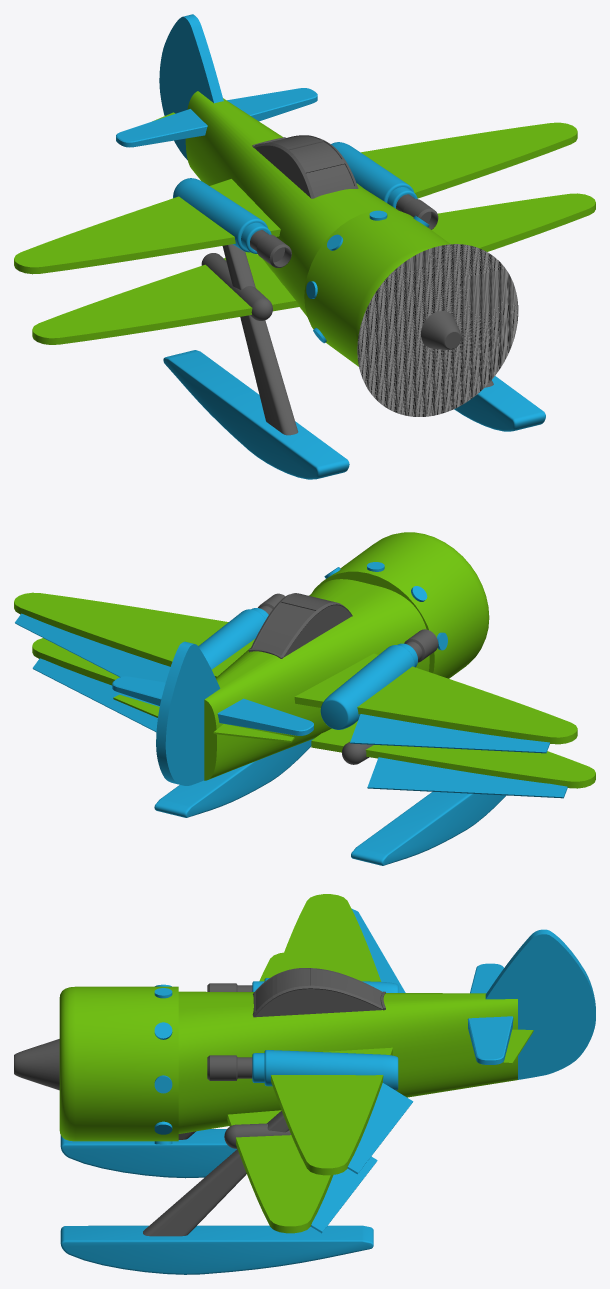
The picture shows the model from 3 angles, top to bottom: view 1: azimuth 30°, elevation 25°; view 2: azimuth 150°, elevation 25°; view 3: azimuth 270°, elevation 25°; orthographic projection.
Visible parts, largest first — view 1: Крылья, Пропеллер, Корпус, Поплавки, Нос007, Пулеметы, Хвост005, Ноги001, Кабина002, Хвостовые крылья002, Дуло, Колено001 (+2 smaller); view 2: Крылья, Корпус, Нос007, Поплавки, Хвост005, Пулеметы, Закрылки 4, Закрылки 3, Кабина002, Хвостовые крылья002, Закрылки 1, Закрылки 2 (+4 smaller); view 3: Корпус, Крылья, Нос007, Поплавки, Хвост005, Кабина002, Пулеметы, Ноги001, Хвостовые крылья002, Закрылки 1, Пимпа002, Закрылки 2 (+5 smaller).
Boxes of the visible parts, left/top/right/bottom form: Крылья: left=14, top=122, right=595, bottom=344; Пропеллер: left=357, top=244, right=518, bottom=416; Корпус: left=185, top=91, right=398, bottom=316; Поплавки: left=163, top=350, right=545, bottom=479; Нос007: left=304, top=209, right=450, bottom=366; Пулеметы: left=173, top=142, right=417, bottom=253; Хвост005: left=159, top=14, right=223, bottom=160; Ноги001: left=222, top=244, right=493, bottom=435; Кабина002: left=252, top=135, right=358, bottom=198; Хвостовые крылья002: left=116, top=88, right=317, bottom=147; Дуло: left=250, top=194, right=438, bottom=267; Колено001: left=201, top=253, right=272, bottom=320; Крылья: left=14, top=592, right=595, bottom=788; Корпус: left=204, top=579, right=429, bottom=780; Нос007: left=312, top=532, right=489, bottom=678; Поплавки: left=154, top=738, right=506, bottom=865; Хвост005: left=156, top=641, right=220, bottom=785; Пулеметы: left=198, top=608, right=417, bottom=729; Закрылки 4: left=367, top=757, right=567, bottom=798; Закрылки 3: left=350, top=714, right=549, bottom=753; Кабина002: left=248, top=593, right=352, bottom=658; Хвостовые крылья002: left=112, top=676, right=313, bottom=735; Закрылки 1: left=15, top=613, right=170, bottom=682; Закрылки 2: left=32, top=658, right=159, bottom=732; Корпус: left=178, top=991, right=517, bottom=1133; Крылья: left=227, top=894, right=392, bottom=1233; Нос007: left=59, top=986, right=178, bottom=1141; Поплавки: left=60, top=1129, right=373, bottom=1274; Хвост005: left=485, top=929, right=595, bottom=1079; Кабина002: left=252, top=968, right=385, bottom=1017; Пулеметы: left=252, top=978, right=398, bottom=1090; Ноги001: left=143, top=1111, right=288, bottom=1236; Хвостовые крылья002: left=467, top=963, right=513, bottom=1064; Закрылки 1: left=347, top=1083, right=413, bottom=1174; Пимпа002: left=14, top=1039, right=59, bottom=1090; Закрылки 2: left=311, top=1156, right=377, bottom=1233.
Size of the model in its own units: 1.73 by 0.8417 by 1.55.
4 materials, 1 textured.
